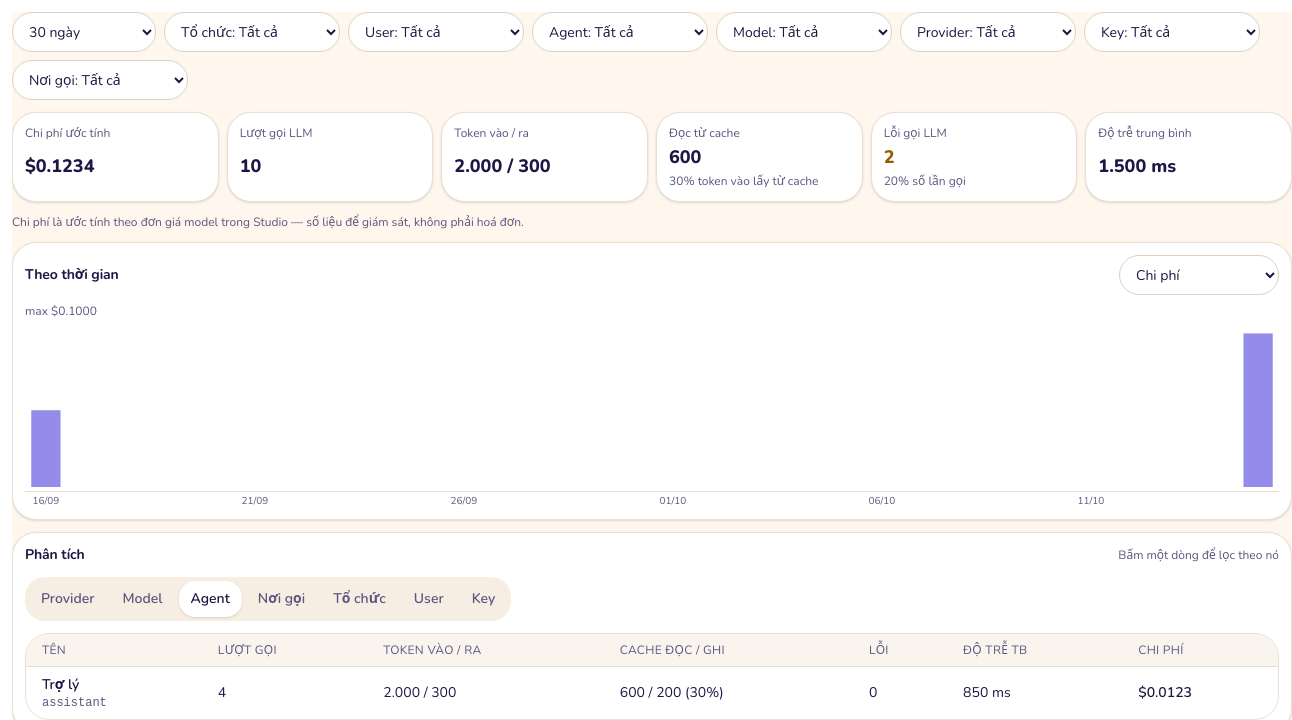
it: UsagePage — KPI, bộ lọc trên URL, bảng, biểu đồ, lỗi › đổi bộ lọc ghi vào URL và gọi lại API; xoá lọc dọn URL, giữ range / by
The image size is (1292, 720).
Select "7 ngày" in the dropdown with test id "usage-range" at (84, 32), box [12, 12, 156, 52]
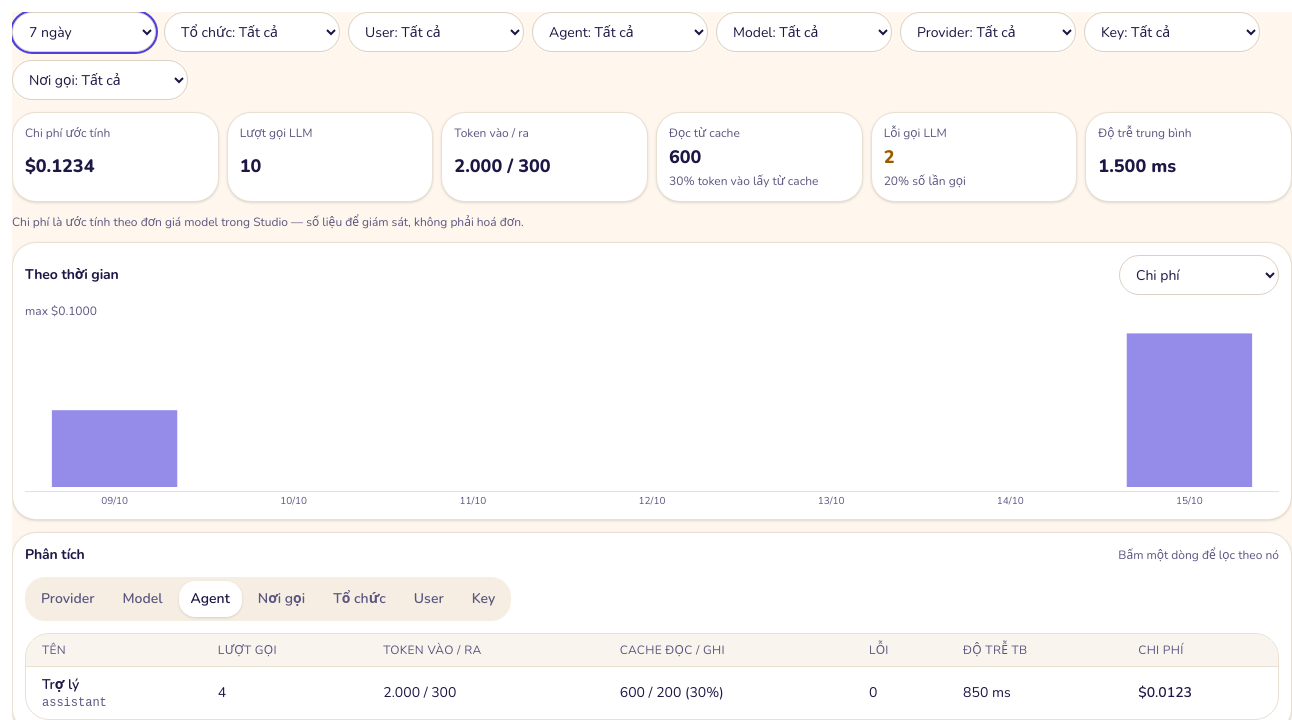
Select "An" in the dropdown with test id "usage-filter-user_id" at (436, 32), box [348, 12, 524, 52]
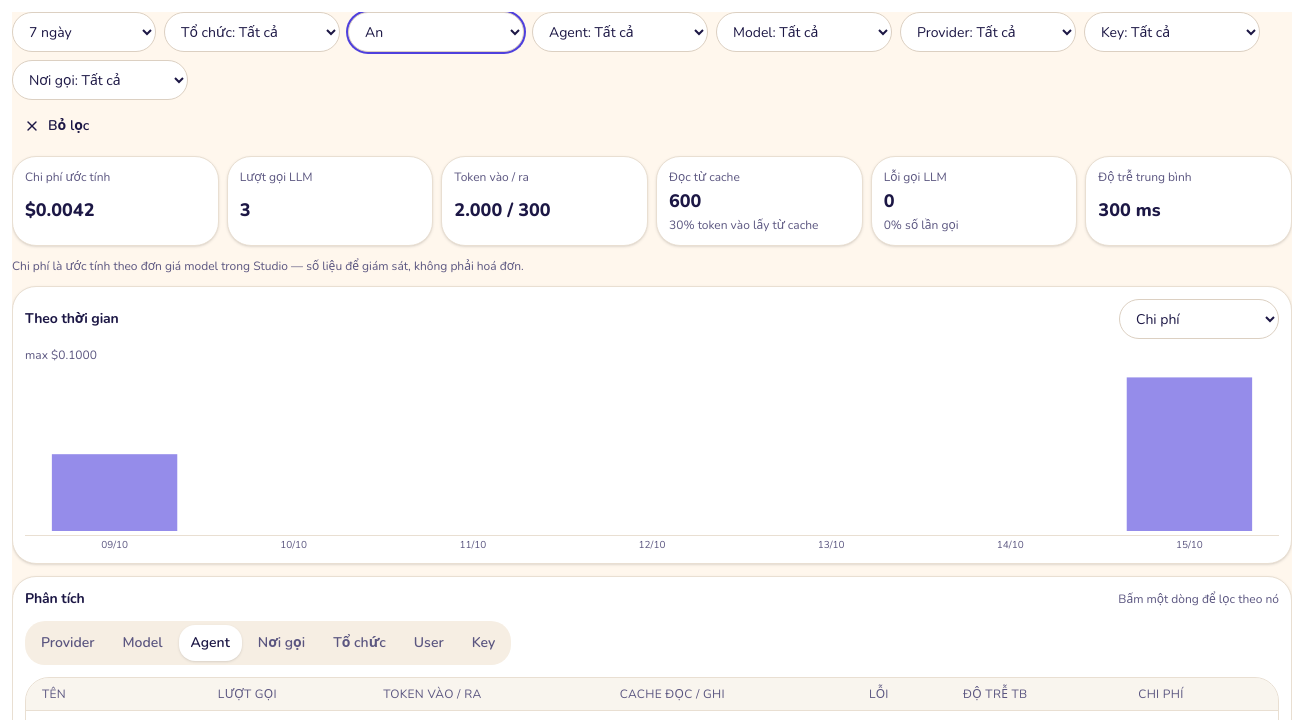
Select "Agent / chuyên gia" in the dropdown with test id "usage-filter-purpose" at (100, 80), box [12, 60, 188, 100]
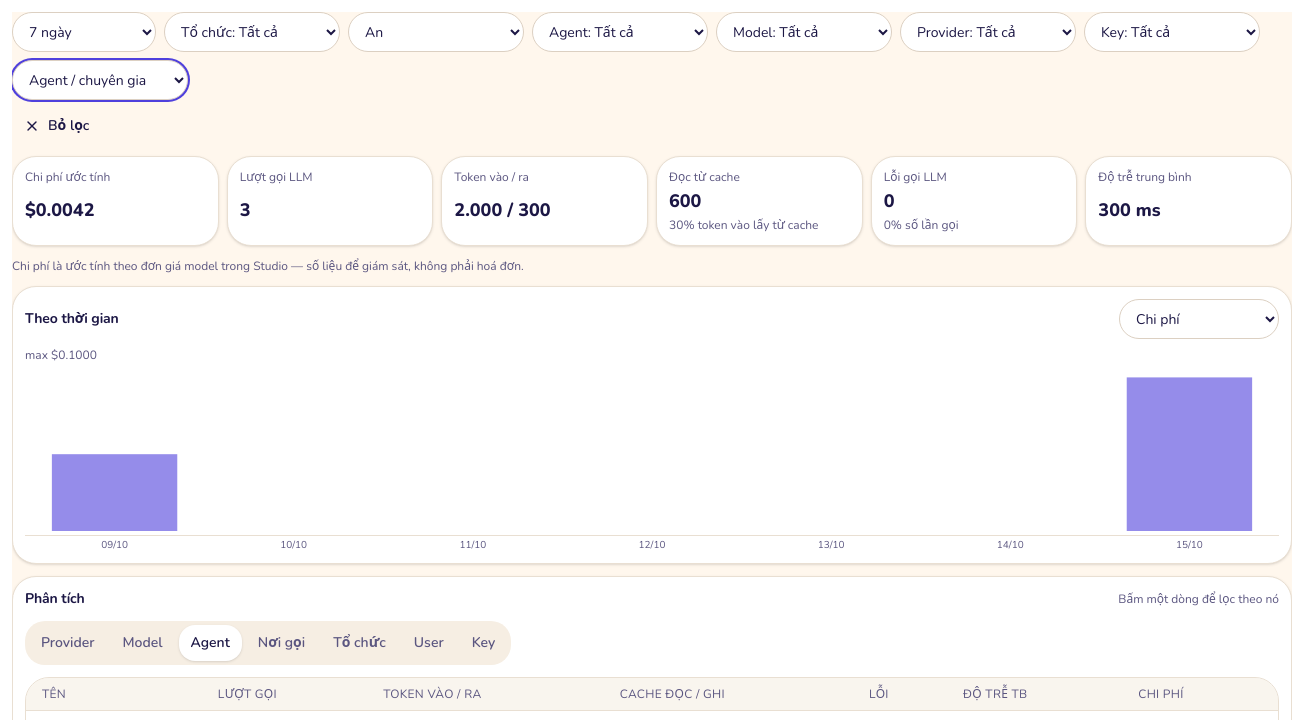
Expected: the element with test id "kpi-cost" shows "$0.0042", [25, 198, 94, 222]
Click the button with test id "usage-clear" at (57, 126), box [12, 108, 101, 144]
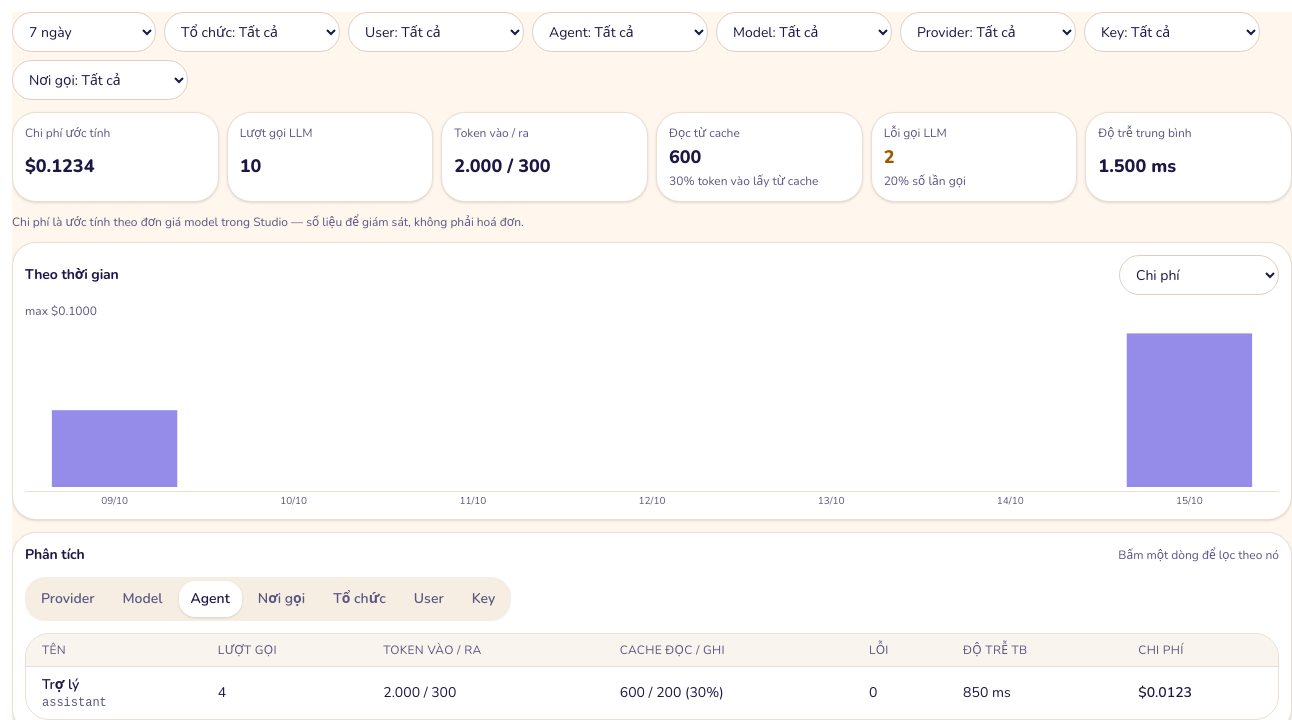
Expected: the element with test id "kpi-cost" shows "$0.1234", [25, 154, 94, 178]
Expected: the button with test id "usage-clear" is gone
